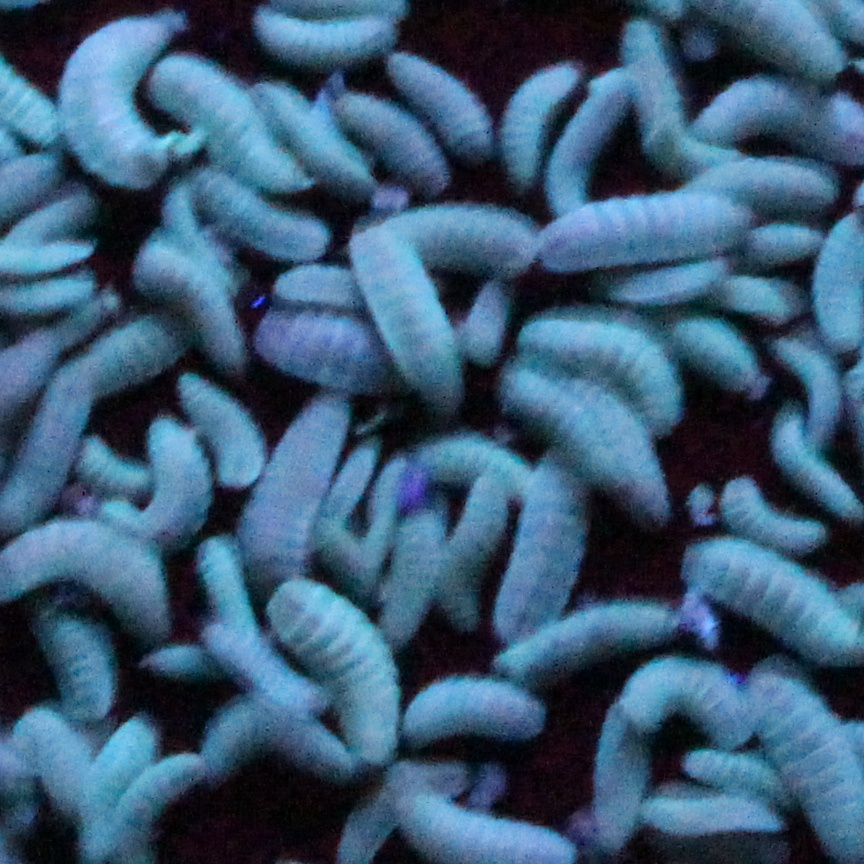larve: (272, 603, 401, 746), (169, 57, 315, 182), (508, 310, 694, 403), (505, 592, 690, 682), (244, 400, 340, 571), (693, 538, 841, 646), (65, 13, 156, 188), (494, 471, 583, 628), (375, 223, 445, 412), (608, 25, 697, 171), (144, 246, 244, 357), (541, 210, 750, 260), (583, 378, 665, 503), (340, 96, 451, 185), (522, 385, 622, 482), (250, 2, 395, 64), (383, 500, 451, 610), (44, 632, 112, 742), (683, 307, 762, 382), (455, 206, 537, 278), (202, 391, 266, 482), (506, 69, 551, 197), (449, 51, 493, 162)
